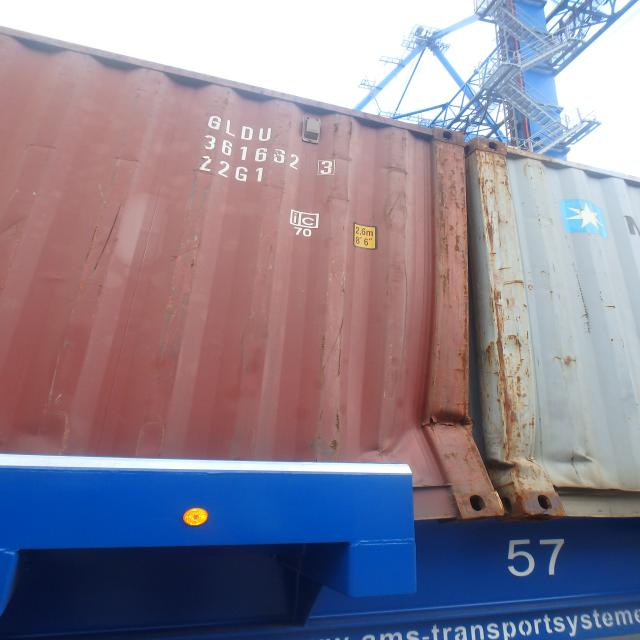dent: (420, 119, 511, 532), (488, 308, 572, 525), (357, 388, 424, 458), (14, 414, 95, 450), (545, 447, 605, 473)
